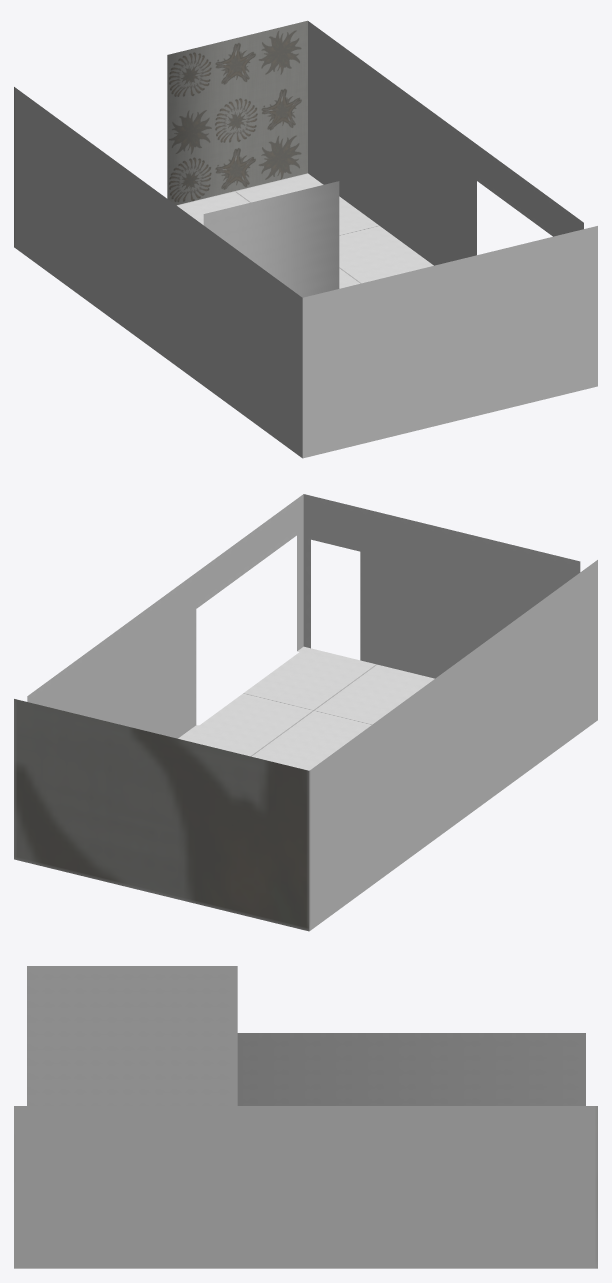
File: wall.glb
3 views of the same model, one above another, from view 1: azimuth 30°, elevation 25°; view 2: azimuth 150°, elevation 25°; view 3: azimuth 270°, elevation 25° (orthographic).
Parts seen in each view (by area): view 1: background; view 2: background; view 3: background.
Part boxes in pixels (bbox=[...]): background: bbox=[14, 20, 597, 458]; background: bbox=[14, 494, 597, 931]; background: bbox=[14, 966, 597, 1268].
Bounding box in the file's own units: 6 × 3.12 × 10.16.
Materials: 1 (1 with a texture image).
